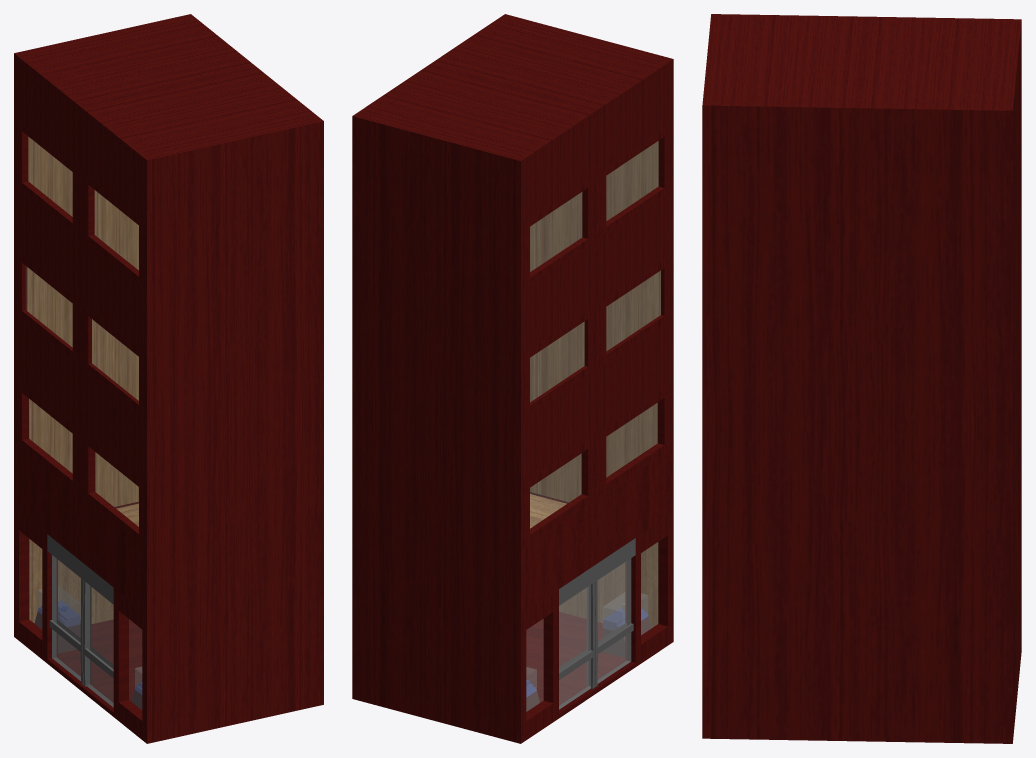
File: redbuilding.fbx
3 renders of one model, left to right at view 1: azimuth 30°, elevation 25°; view 2: azimuth 150°, elevation 25°; view 3: azimuth 270°, elevation 25°, orthographic. The views are drawn at different scales.
Parts seen in each view (by area): view 1: buildingtwo:buildingone, buildingtwo:insidewall1, buildingtwo:door, buildingtwo:door1, buildingtwo:insidewall, buildingtwo:countertop; view 2: buildingtwo:buildingone, buildingtwo:insidewall1, buildingtwo:door1, buildingtwo:door, buildingtwo:insidewall, buildingtwo:countertop; view 3: buildingtwo:buildingone.
Part boxes in pixels (<box>): buildingtwo:buildingone: <box>14,14,323,743</box>; buildingtwo:insidewall1: <box>27,137,138,506</box>; buildingtwo:door: <box>49,555,83,684</box>; buildingtwo:door1: <box>83,580,113,707</box>; buildingtwo:insidewall: <box>29,503,138,623</box>; buildingtwo:countertop: <box>34,586,80,653</box>; buildingtwo:buildingone: <box>352,14,673,743</box>; buildingtwo:insidewall1: <box>530,141,660,501</box>; buildingtwo:door1: <box>595,558,633,687</box>; buildingtwo:door: <box>559,582,595,709</box>; buildingtwo:insidewall: <box>530,494,658,627</box>; buildingtwo:countertop: <box>603,593,651,657</box>; buildingtwo:buildingone: <box>702,14,1021,743</box>.
Bounding box in the file's own units: 499 × 1521 × 695.
